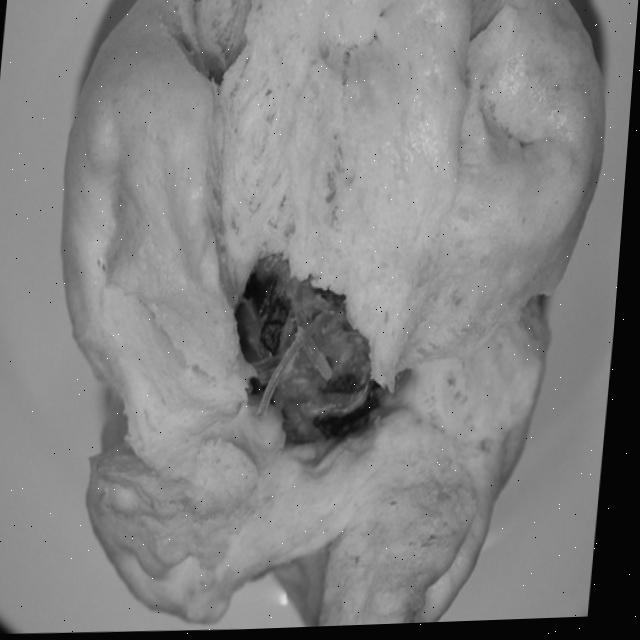带馅早点: (24, 0, 631, 638)
